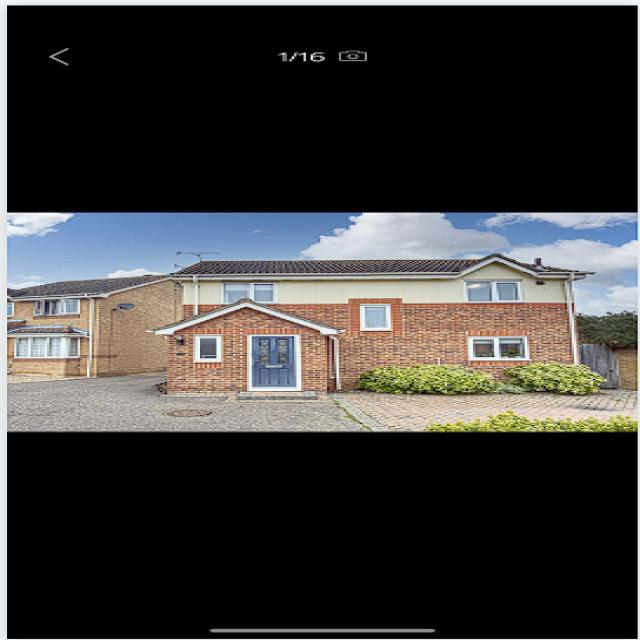icon button: (30, 37, 103, 86)
image: (0, 212, 640, 435)
